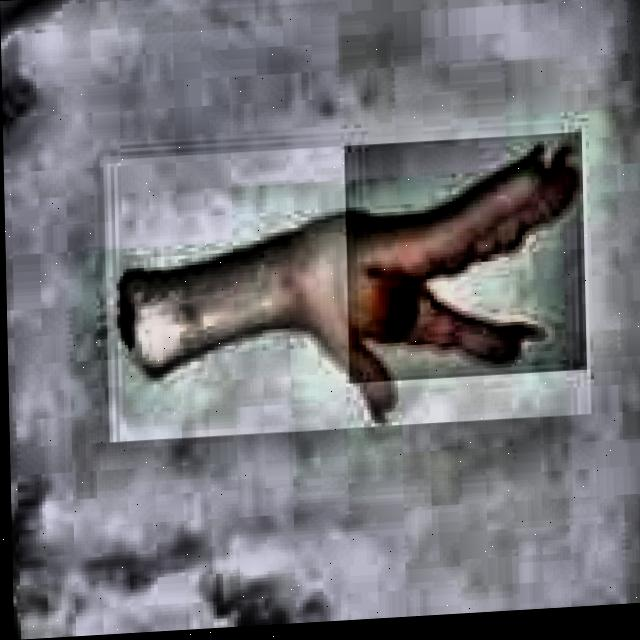Bumble foot: (329, 250, 441, 365)
